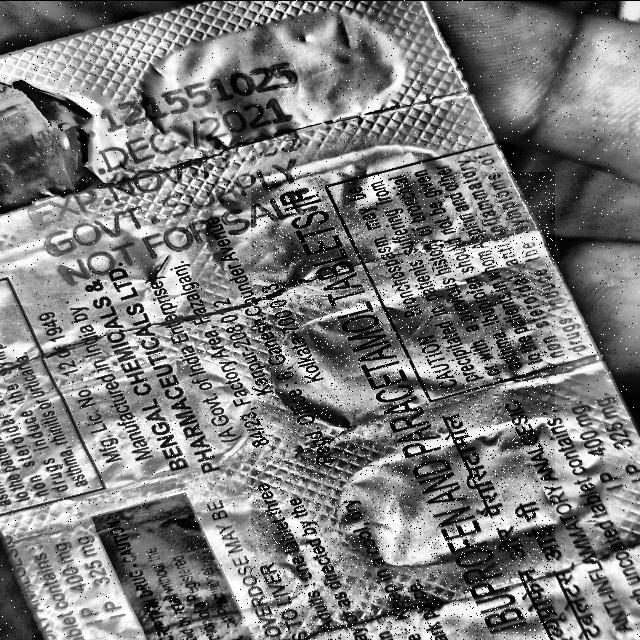IBUPROFEN AND PARACETAMOL TABLETS: (252, 171, 554, 640)
